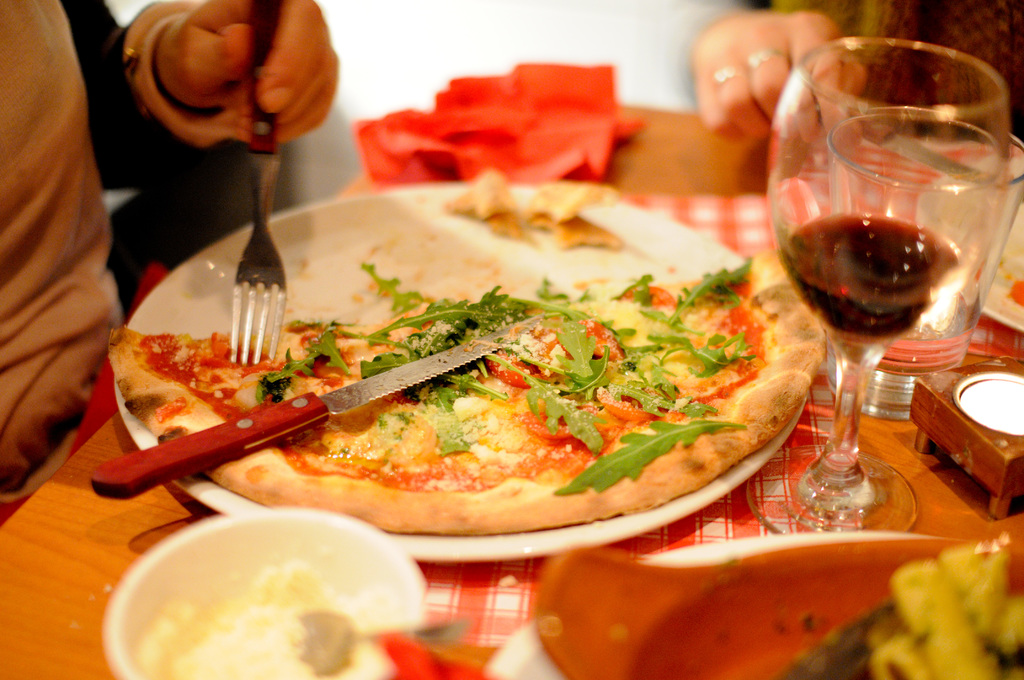Pizza: (94, 204, 799, 544)
